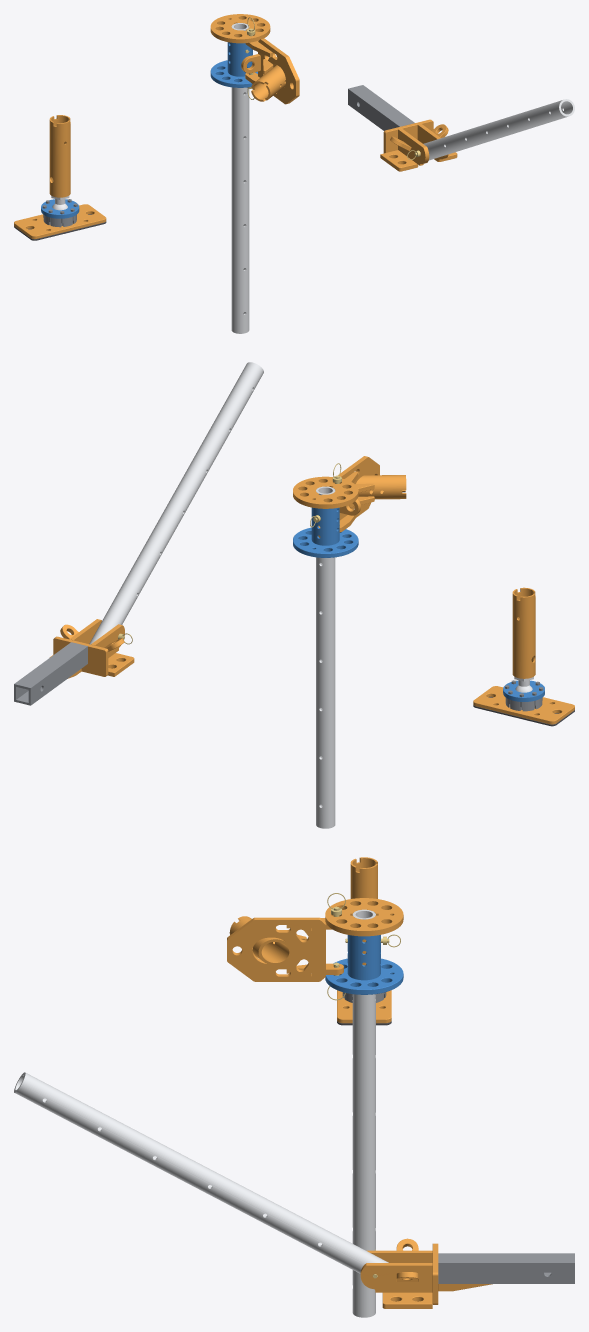
The model's file is accesorios_v9.glb.
The picture shows the model from 3 angles, top to bottom: view 1: azimuth 30°, elevation 25°; view 2: azimuth 150°, elevation 25°; view 3: azimuth 270°, elevation 25°; orthographic projection. The views are drawn at different scales.
Parts seen in each view (by area): view 1: a_c13, a_17x, a_18a, a_17a, a_c15, a_18f, a_c16, a_cG05, a_cG06, a_17ci, a_17b, a_17d (+1 smaller); view 2: a_17x, a_c13, a_17a, a_c16, a_18a, a_c15, a_18f, a_cG06, a_17b, a_cG05; view 3: a_17x, a_c13, a_cG05, a_17a, a_c16, a_c15, a_17cd, a_18a, a_cG06, a_17d, a_18f, a_17ci.
Boxes of the visible parts, box(x1,y1,x2,y2) form: a_c13: box(231, 23, 249, 333); a_17x: box(423, 99, 574, 160); a_18a: box(49, 115, 70, 191); a_17a: box(348, 85, 414, 130); a_c15: box(210, 14, 270, 43); a_18f: box(14, 204, 106, 239); a_c16: box(210, 42, 257, 87); a_cG05: box(258, 38, 299, 104); a_cG06: box(251, 65, 285, 101); a_17ci: box(398, 128, 429, 165); a_17b: box(383, 119, 433, 153); a_17d: box(380, 150, 457, 171); a_17x: box(89, 362, 263, 644); a_c13: box(316, 486, 335, 828); a_17a: box(14, 642, 87, 705); a_c16: box(293, 507, 358, 557); a_18a: box(512, 587, 535, 671); a_c15: box(293, 476, 358, 537); a_18f: box(473, 686, 574, 724); a_cG06: box(356, 475, 406, 499); a_17b: box(53, 636, 108, 676); a_cG05: box(338, 456, 379, 520); a_17x: box(14, 1072, 388, 1273); a_c13: box(352, 909, 375, 1317); a_cG05: box(227, 917, 325, 981); a_17a: box(438, 1253, 574, 1283); a_c16: box(325, 935, 403, 994); a_c15: box(325, 898, 403, 965); a_17cd: box(360, 1263, 432, 1292); a_18a: box(350, 857, 377, 898); a_cG06: box(229, 916, 292, 965); a_17d: box(382, 1292, 432, 1308); a_18f: box(337, 990, 391, 1023); a_17ci: box(366, 1250, 432, 1262).
Bounding box in the file's own units: 1473 × 1018 × 1232.
